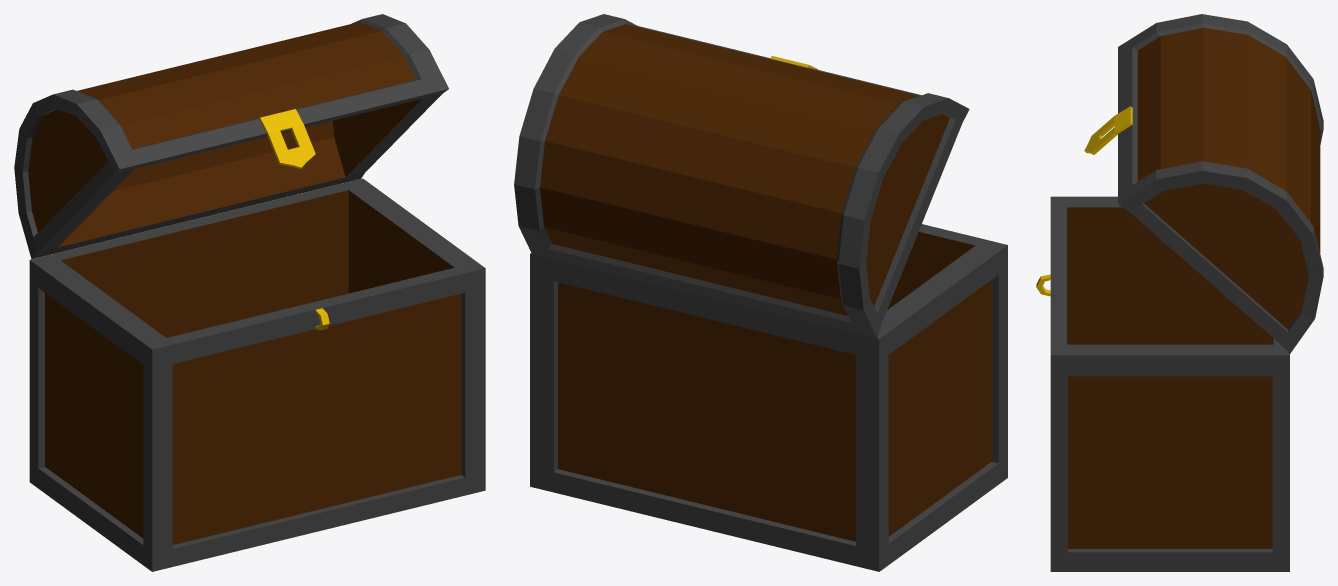
File: 19.07_Bubuia_bau2.fbx
The picture shows the model from 3 angles, left to right: view 1: azimuth 30°, elevation 25°; view 2: azimuth 150°, elevation 25°; view 3: azimuth 270°, elevation 25°; orthographic projection. The views are drawn at different scales.
Parts seen in each view (by area): view 1: Cube, Cube.002; view 2: Cube, Cube.002; view 3: Cube, Cube.002.
Boxes of the visible parts, box(x1,y1,x2,y2) form: Cube: box(29, 178, 485, 571); Cube.002: box(14, 14, 448, 259); Cube: box(530, 224, 1007, 571); Cube.002: box(514, 14, 969, 338); Cube: box(1036, 196, 1289, 571); Cube.002: box(1084, 14, 1323, 353).
Size of the model in its own units: 3.14 by 3.7 by 2.4.
